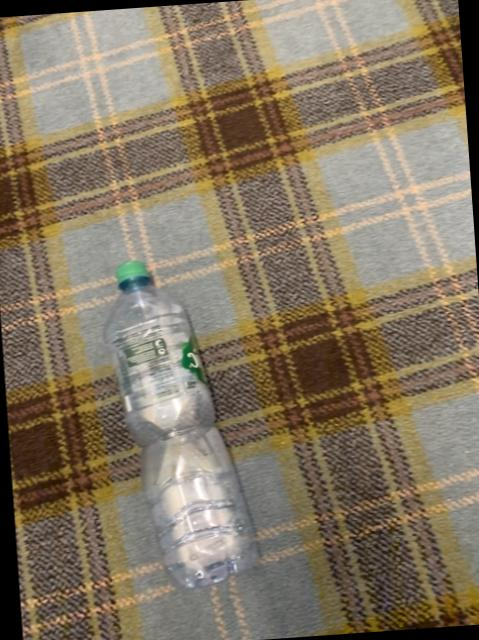plastic: (105, 259, 257, 585)
